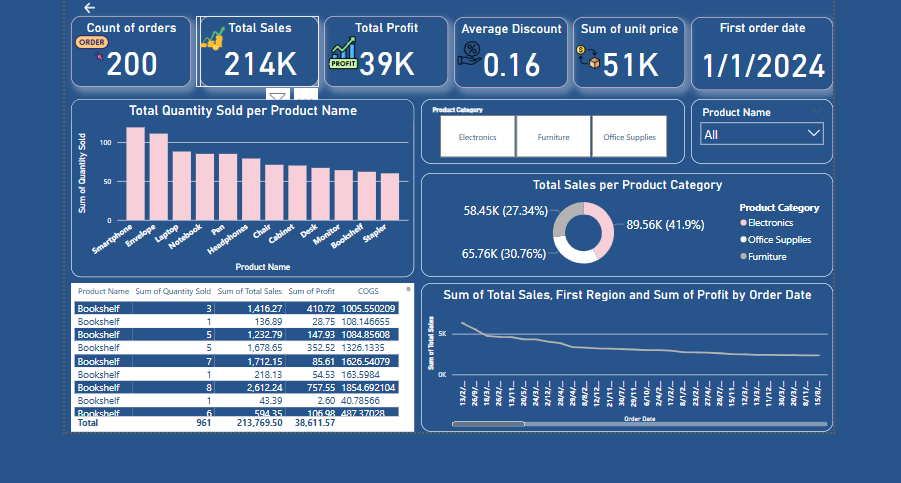

The dashboard page shown, as its layout file describes it:
{"tool":"powerbi","page":{"name":"Dashboard","canvas":[1280,720],"ordinal":1},"visuals":[{"type":"card","title":"Count of orders","fields":{"Values":["CountNonNull(Sheet1.Order ID)"]},"box":[10,26.7,200,118.3],"z":0,"group":"g1"},{"type":"card","title":"Total Sales","fields":{"Values":["Sum(Sheet1.Total Sales)"]},"box":[225.6,26.7,198.3,118.3],"z":1,"group":"g5"},{"type":"card","title":"Total Profit","fields":{"Values":["Sum(Sheet1.Profit)"]},"box":[432.7,26.7,206.7,118.3],"z":2,"group":"g4"},{"type":"card","title":"Average Discount","fields":{"Values":["Avg(Sheet1.Discount)"]},"box":[647.7,28.3,190,118.3],"z":3,"group":"g3"},{"type":"card","title":"Sum of unit price","fields":{"Values":["Sum(Sheet1.Unit Price)"]},"box":[847,28.3,186.7,118.3],"z":4,"group":"g2"},{"type":"card","title":"First order date","fields":{"Values":["Min(Sheet1.Order Date)"]},"box":[1043.3,28.3,236.7,121.7],"z":5},{"type":"image","box":[10,46.7,68.3,66.7],"z":6,"group":"g1"},{"type":"image","box":[218.7,26.7,55,73.3],"z":7,"group":"g5"},{"type":"image","box":[432.3,48.4,65,78.3],"z":8,"group":"g4"},{"type":"group","id":"g1","title":"Group 3","box":[10,26.7,200,118.3],"z":11},{"type":"image","box":[647.7,63.3,51.7,50],"z":13,"group":"g3"},{"type":"image","box":[846.3,50,50,90],"z":15,"group":"g2"},{"type":"group","id":"g2","title":"Group 4","box":[846.3,28.3,188.3,118.3],"z":16},{"type":"group","id":"g3","title":"Group 2","box":[647.7,28.3,190,118.3],"z":17},{"type":"group","id":"g4","title":"Group 1","box":[432.3,26.7,206.7,118.3],"z":18},{"type":"group","id":"g5","title":"Group 5","box":[218.7,26.7,205,118.3],"z":19},{"type":"clusteredColumnChart","title":"Total Quantity Sold per Product Name","fields":{"Y":["Sum(Sheet1.Quantity Sold)"],"Category":["Sheet1.Product Name"]},"box":[10,165,571.7,296.7],"z":20},{"type":"slicer","fields":{"Values":["Sheet1.Product Name"]},"box":[1043.3,165,236.7,108.3],"z":21},{"type":"slicer","fields":{"Values":["Sheet1.Product Category"]},"box":[593.3,165,440,108.3],"z":22},{"type":"donutChart","title":" Total Sales per Product Category","fields":{"Category":["Sheet1.Product Category"],"Y":["Sum(Sheet1.Total Sales)"]},"box":[593.3,288.3,686.7,173.3],"z":23},{"type":"lineChart","fields":{"Category":["Sheet1.Order Date"],"Y":["Sum(Sheet1.Total Sales)"]},"box":[593.3,471.7,686.7,248.3],"z":24},{"type":"tableEx","fields":{"Values":["Sheet1.Product Name","Sum(Sheet1.Quantity Sold)","Sum(Sheet1.Total Sales)","Sum(Sheet1.Profit)","Sheet1.COGS"]},"box":[10,472,572,248],"z":25},{"type":"actionButton","box":[28.3,0,218.3,26.7],"z":26}]}

Visuals, with their boxes on the page's 1280x720 design canvas (x1, y1, x2, y2). These are canvas units, not pixel positions in the 901x483 screenshot, which may show the page scaled, cropped or inside an application window:
"Count of orders" card: detection(10, 27, 210, 145)
"Total Sales" card: detection(226, 27, 424, 145)
"Total Profit" card: detection(433, 27, 639, 145)
"Average Discount" card: detection(648, 28, 838, 147)
"Sum of unit price" card: detection(847, 28, 1034, 147)
"First order date" card: detection(1043, 28, 1280, 150)
image: detection(10, 47, 78, 113)
image: detection(219, 27, 274, 100)
image: detection(432, 48, 497, 127)
"Group 3" group: detection(10, 27, 210, 145)
image: detection(648, 63, 699, 113)
image: detection(846, 50, 896, 140)
"Group 4" group: detection(846, 28, 1035, 147)
"Group 2" group: detection(648, 28, 838, 147)
"Group 1" group: detection(432, 27, 639, 145)
"Group 5" group: detection(219, 27, 424, 145)
"Total Quantity Sold per Product Name" clusteredColumnChart: detection(10, 165, 582, 462)
slicer - Sheet1.Product Name: detection(1043, 165, 1280, 273)
slicer - Sheet1.Product Category: detection(593, 165, 1033, 273)
" Total Sales per Product Category" donutChart: detection(593, 288, 1280, 462)
lineChart - Sheet1.Order Date x Sum(Sheet1.Total Sales): detection(593, 472, 1280, 720)
tableEx - Sheet1.Product Name x Sum(Sheet1.Quantity Sold): detection(10, 472, 582, 720)
actionButton: detection(28, 0, 247, 27)
